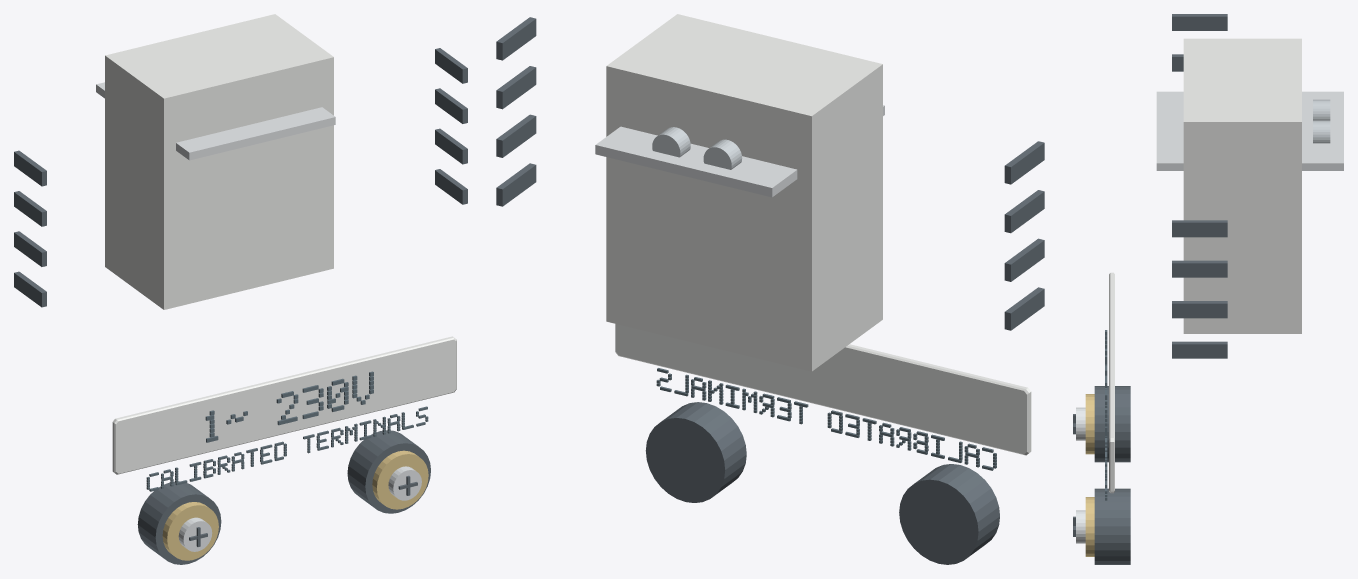
Rendered from acSupply.glb.
3 renders of one model, left to right at view 1: azimuth 30°, elevation 25°; view 2: azimuth 150°, elevation 25°; view 3: azimuth 270°, elevation 25°, orthographic. The views are drawn at different scales.
Visible parts, largest first — view 1: acSupply-detailed; view 2: acSupply-detailed; view 3: acSupply-detailed.
Boxes of the visible parts, x1,y1,x2,y2 form: acSupply-detailed: [14, 14, 467, 564]; acSupply-detailed: [496, 14, 1044, 564]; acSupply-detailed: [1073, 14, 1343, 564].
Bounding box in the file's own units: 2.03 × 1.95 × 1.11.
